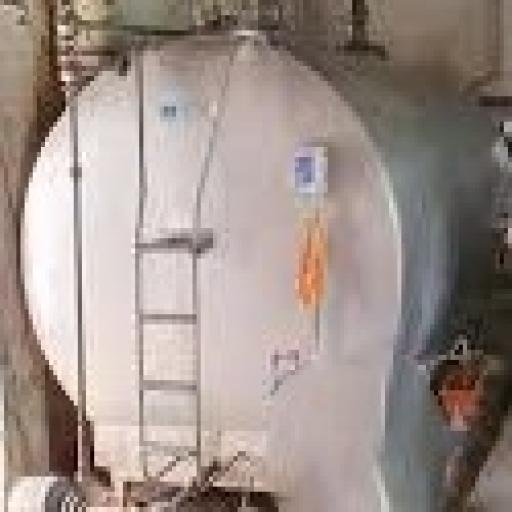silo: (19, 34, 508, 480)
